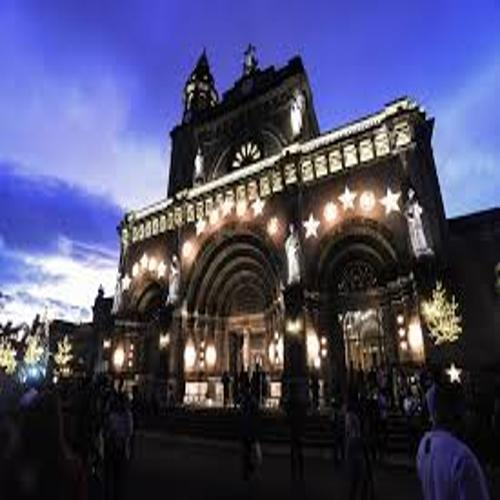Manila Cathedral Church: (82, 29, 469, 434)
